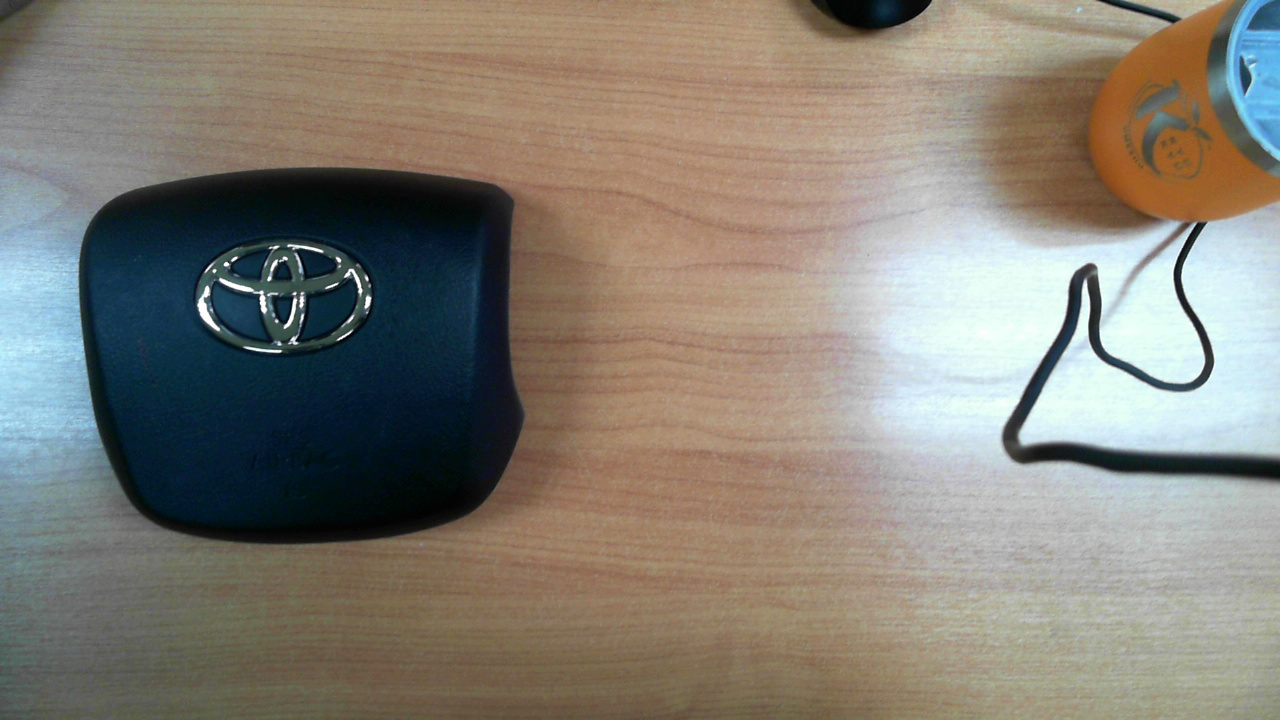Airbag: (78, 166, 526, 545)
Toyota: (196, 237, 370, 354)
